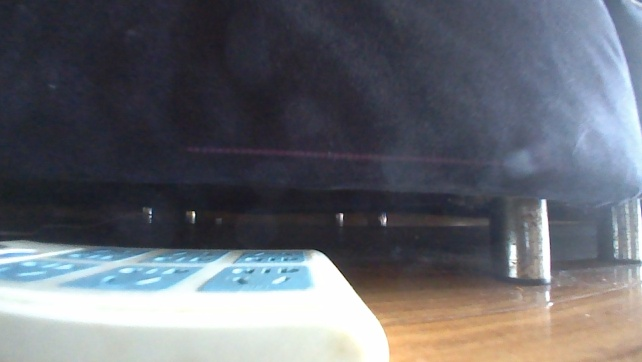sofe1: (0, 0, 641, 287)
